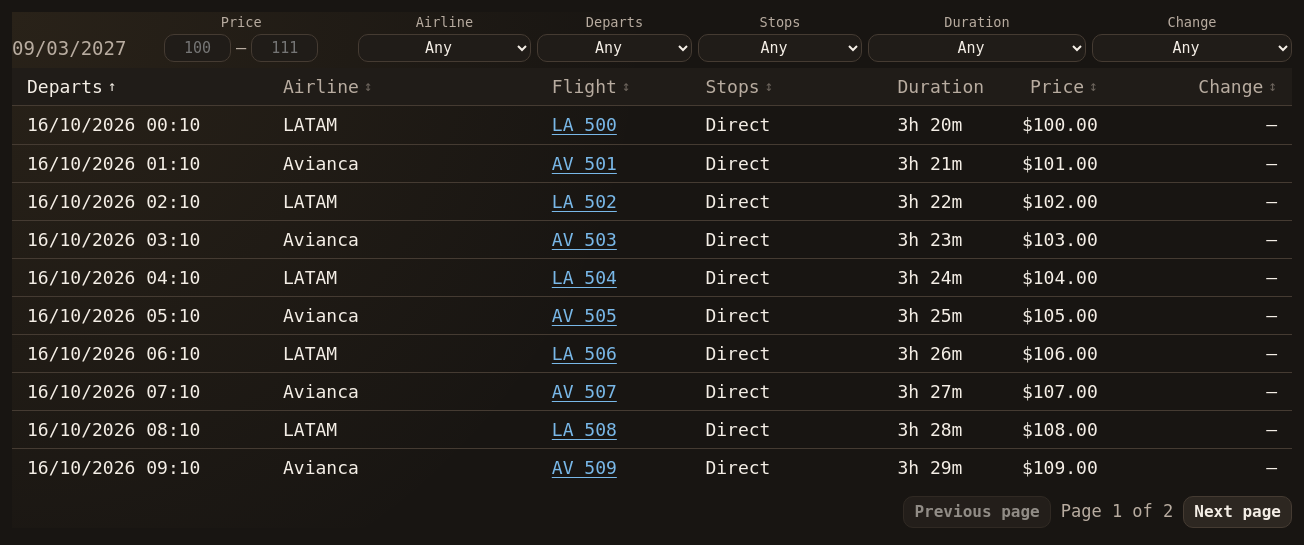
Scenario: FlightTable › pages ten at a time and reaches the rest with a labelled control
This screenshot has width=1304, height=545.
Check: the button "Previous page" is disabled, box 904,496 -> 1051,528
Click the button "Next page".
click(1238, 512)  # box 1183,496 -> 1292,528
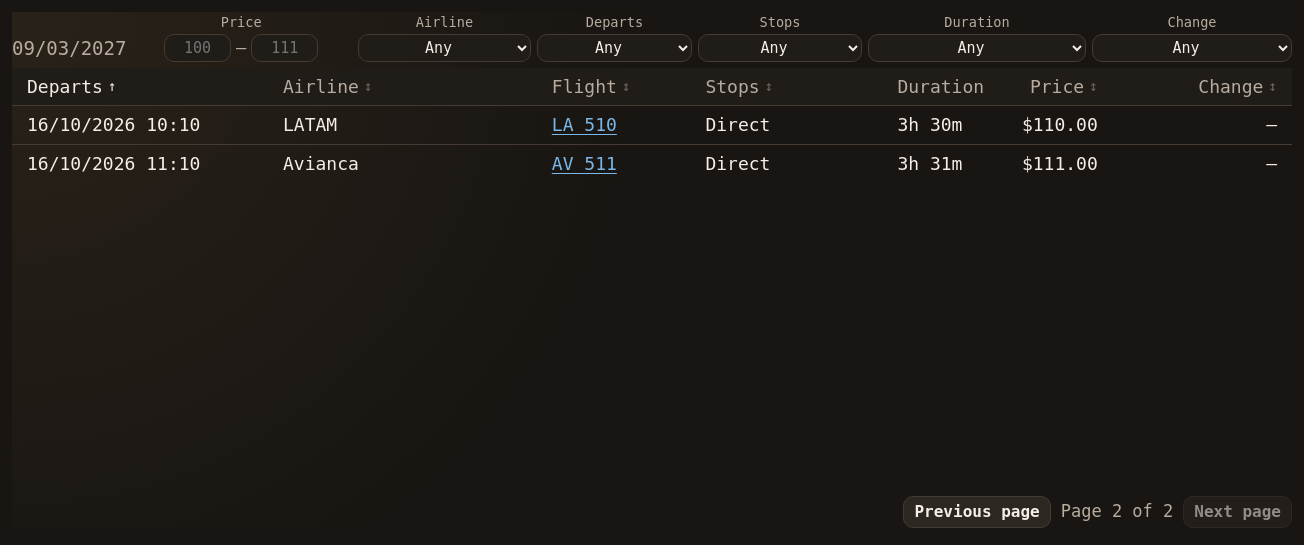
Check: the button "Next page" is disabled, box 1183,496 -> 1292,528
